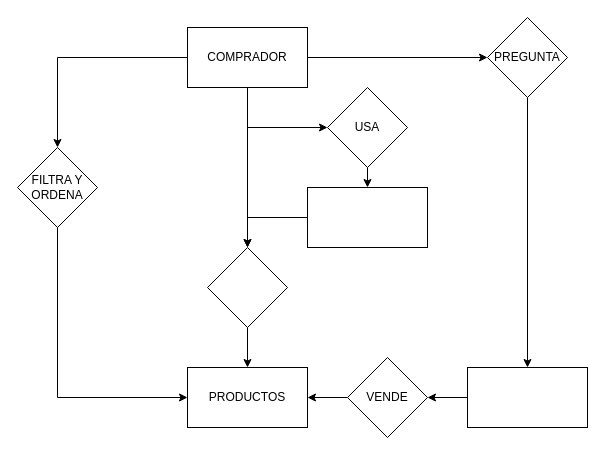
Image size: 605x455. Some labels were removed from this diagram. The shapes that lost their labels are listed below. From the top down, each one's centre as x and y in pixels, then its label:
At [367,217]: "CARRITO DE COMPRAS".
At [247,287]: "COMPRA".
At [527,397]: "VENDEDOR".
